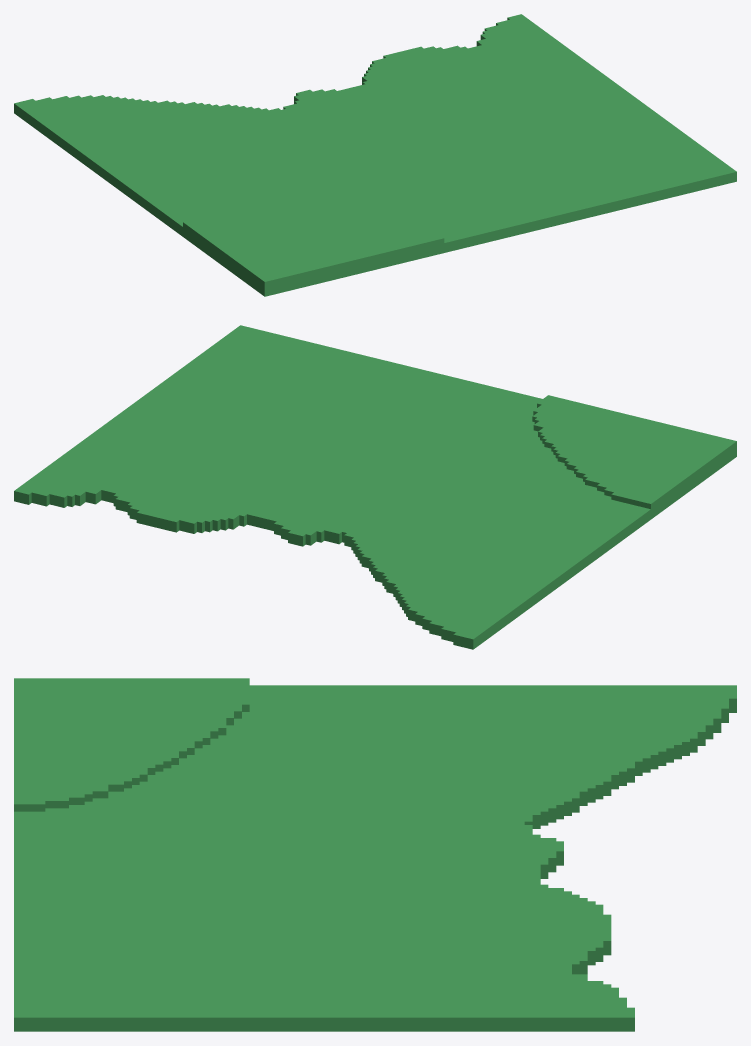
File: TerrainPieces-6.obj
The picture shows the model from 3 angles, top to bottom: view 1: azimuth 30°, elevation 25°; view 2: azimuth 150°, elevation 25°; view 3: azimuth 270°, elevation 25°; orthographic projection. The views are drawn at different scales.
Visible parts, largest first — view 1: TerrainPieces-6; view 2: TerrainPieces-6; view 3: TerrainPieces-6.
Boxes of the visible parts, x1,y1,x2,y2 form: TerrainPieces-6: [14, 14, 736, 296]; TerrainPieces-6: [14, 325, 736, 649]; TerrainPieces-6: [14, 678, 736, 1031].
Size of the model in its own units: 100 by 3 by 92.
Materials: 1 (1 with a texture image).
